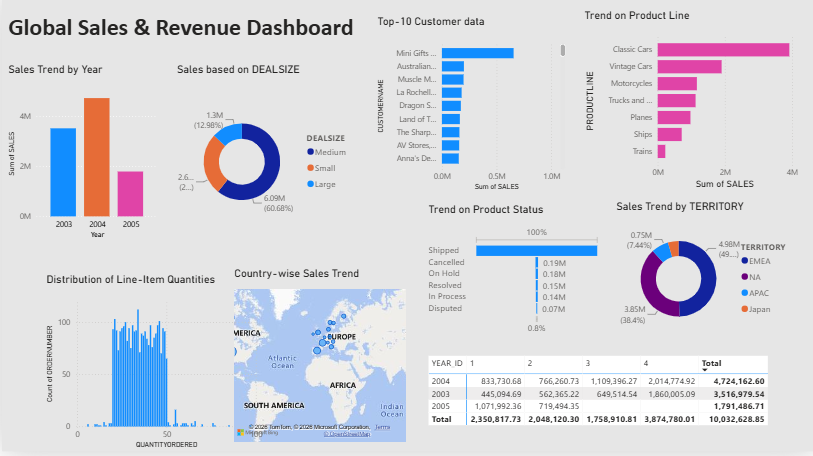

The dashboard page shown, as its layout file describes it:
{"tool":"powerbi","page":{"name":"Page 1","canvas":[1280,720],"ordinal":0},"visuals":[{"type":"columnChart","title":"Sales Trend by Year","fields":{"Category":["Sheet1.ORDERDATE.Variation.Date Hierarchy.Year","Sheet1.ORDERDATE.Variation.Date Hierarchy.Month"],"Y":["Sum(Sheet1.SALES)"]},"box":[2.5,110,245,280],"z":0},{"type":"clusteredBarChart","title":"Trend on Product Line","fields":{"Category":["Sheet1.PRODUCTLINE"],"Y":["Sum(Sheet1.SALES)"]},"box":[907.5,25,345,287.5],"z":1000},{"type":"map","title":"Country-wise Sales Trend","fields":{"Category":["Sheet1.COUNTRY"],"Size":["Sum(Sheet1.SALES)"]},"box":[360,430,280,280],"z":2000},{"type":"donutChart","title":"Sales based on DEALSIZE","fields":{"Category":["Sheet1.DEALSIZE"],"Y":["Sum(Sheet1.SALES)"]},"box":[270,110,292.5,280],"z":3000},{"type":"clusteredBarChart","title":"Top-10 Customer data","fields":{"Category":["Sheet1.CUSTOMERNAME"],"Y":["Sum(Sheet1.SALES)"]},"box":[582.5,32.5,305,280],"z":4000},{"type":"funnel","title":"Trend on Product Status","fields":{"Category":["Sheet1.STATUS"],"Y":["Sum(Sheet1.SALES)"]},"box":[662.5,327.5,280,210],"z":5000},{"type":"pivotTable","fields":{"Columns":["Sheet1.QTR_ID"],"Rows":["Sheet1.YEAR_ID"],"Values":["Sum(Sheet1.SALES)"]},"box":[662.5,562.5,545,147.5],"z":6000},{"type":"lineClusteredColumnComboChart","title":"Distribution of Line-Item Quantities","fields":{"Category":["Sheet1.QUANTITYORDERED"],"Y":["CountNonNull(Sheet1.ORDERNUMBER)"]},"box":[66,440,350,280],"z":7000},{"type":"donutChart","title":"Sales Trend by TERRITORY","fields":{"Category":["Sheet1.TERRITORY"],"Y":["Sum(Sheet1.SALES)"]},"box":[960,322.5,292.5,217.5],"z":8000},{"type":"textbox","box":[2.5,25,585,60],"z":9000}]}

Visuals, with their boxes in screenshot pixels (x1, y1, x2, y2), scaled from the page's 1280x720 canvas onto the 813x456 screenshot:
"Sales Trend by Year" columnChart: rect(2, 70, 157, 247)
"Trend on Product Line" clusteredBarChart: rect(576, 16, 796, 198)
"Country-wise Sales Trend" map: rect(229, 272, 406, 450)
"Sales based on DEALSIZE" donutChart: rect(171, 70, 357, 247)
"Top-10 Customer data" clusteredBarChart: rect(370, 21, 564, 198)
"Trend on Product Status" funnel: rect(421, 207, 599, 340)
pivotTable - Sheet1.QTR_ID x Sheet1.YEAR_ID: rect(421, 356, 767, 450)
"Distribution of Line-Item Quantities" lineClusteredColumnComboChart: rect(42, 279, 264, 455)
"Sales Trend by TERRITORY" donutChart: rect(610, 204, 796, 342)
textbox: rect(2, 16, 373, 54)
